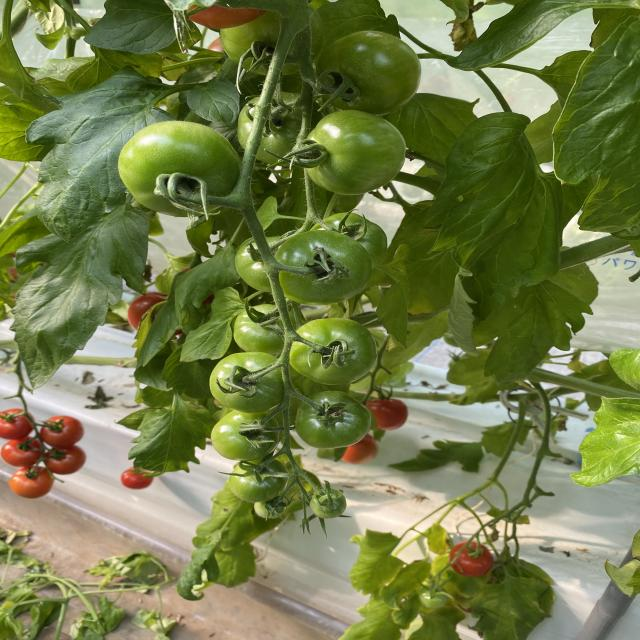yesil: (116, 44, 451, 543)
